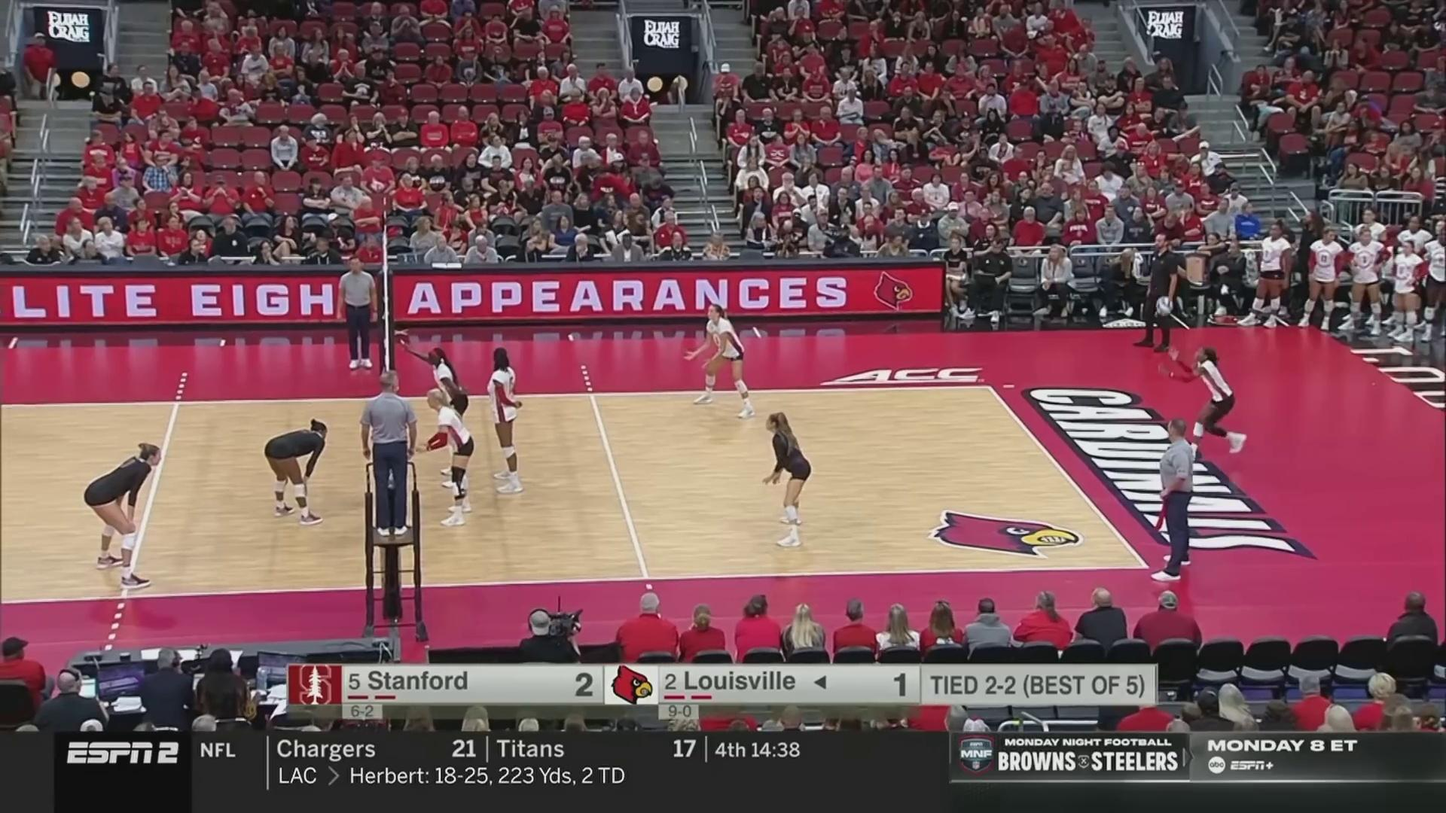player: (82, 443, 161, 587), (684, 304, 756, 419), (410, 346, 468, 488), (1174, 346, 1247, 456), (425, 389, 479, 527), (262, 422, 328, 526), (761, 414, 811, 546), (485, 347, 525, 492)
refree: (362, 372, 418, 534), (1153, 419, 1195, 582), (337, 257, 377, 367)
